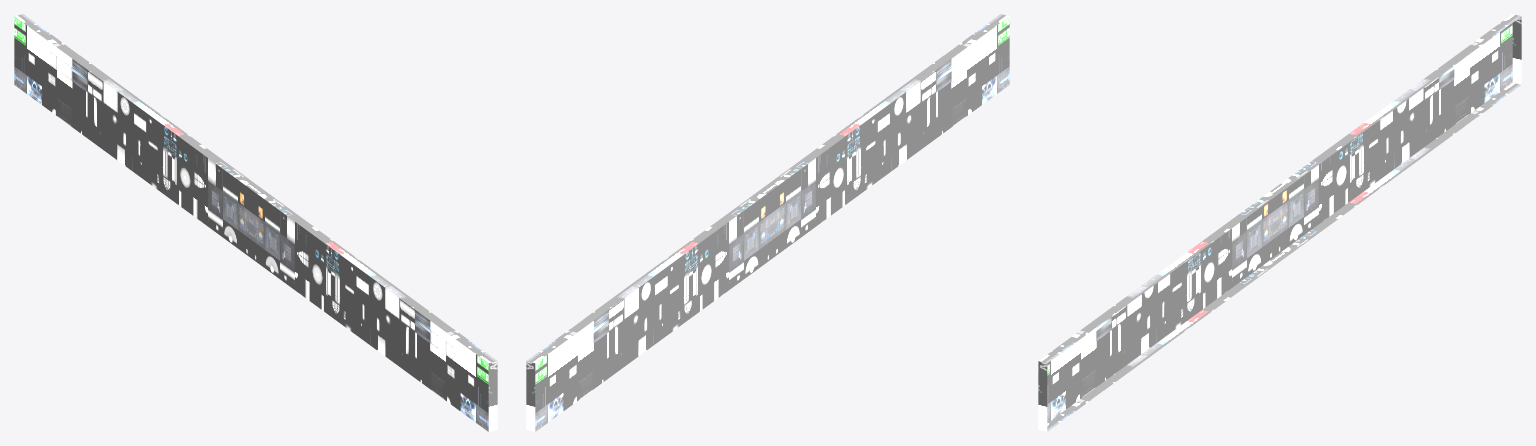
File: SM_H_FutureTech_Lighting_DecorativeLamp_02_C_ATLAS.fbx
3 renders of one model, left to right at view 1: azimuth 30°, elevation 25°; view 2: azimuth 150°, elevation 25°; view 3: azimuth 330°, elevation 25°, orthographic.
Parts seen in each view (by area): view 1: SM_H_FutureTech_Lighting_DecorativeLamp_02_C_ATLAS; view 2: SM_H_FutureTech_Lighting_DecorativeLamp_02_C_ATLAS; view 3: SM_H_FutureTech_Lighting_DecorativeLamp_02_C_ATLAS.
Part boxes in pixels (x1=…): SM_H_FutureTech_Lighting_DecorativeLamp_02_C_ATLAS: x1=14, y1=14, x2=497, y2=431; SM_H_FutureTech_Lighting_DecorativeLamp_02_C_ATLAS: x1=526, y1=14, x2=1009, y2=431; SM_H_FutureTech_Lighting_DecorativeLamp_02_C_ATLAS: x1=1038, y1=14, x2=1521, y2=431.
Size of the model in its own units: 1.73 by 156 by 12.47.
